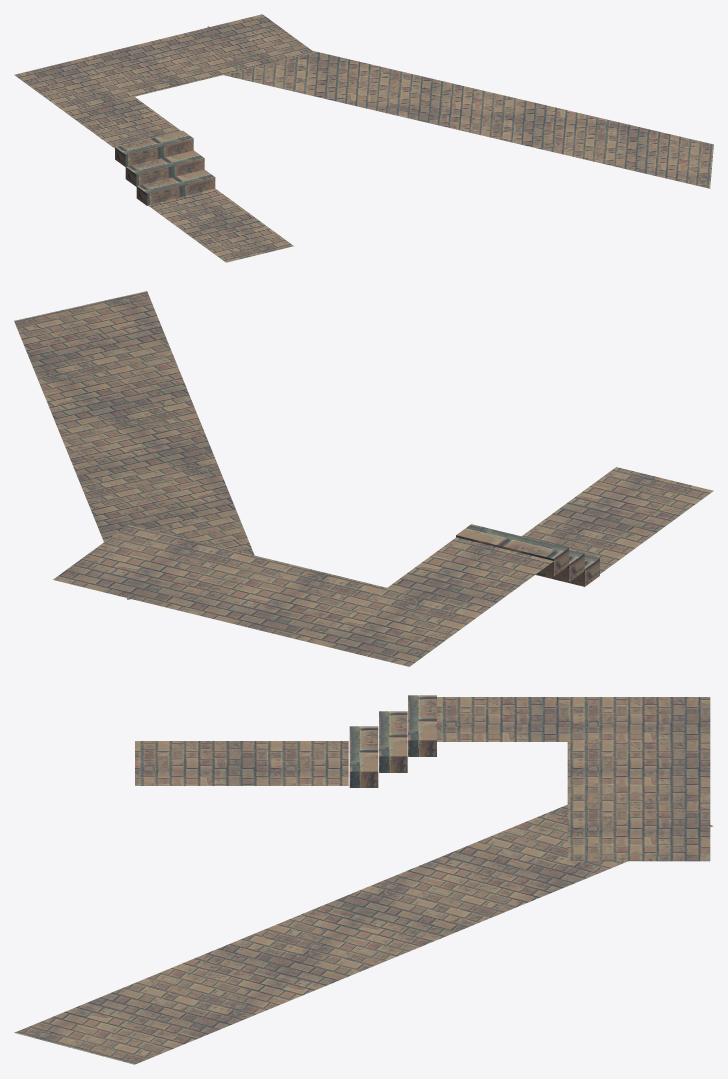
The model's file is ramp.fbx.
The picture shows the model from 3 angles, top to bottom: view 1: azimuth 30°, elevation 25°; view 2: azimuth 150°, elevation 25°; view 3: azimuth 270°, elevation 25°; orthographic projection. The views are drawn at different scales.
Parts seen in each view (by area): view 1: Plane; view 2: Plane; view 3: Plane.
Part boxes in pixels (x1,y1,x2,y2): Plane: (14,14,713,262); Plane: (14,291,713,666); Plane: (14,695,713,1064).
Size of the model in its own units: 1076 by 74.34 by 986.
4 materials, 4 textured.
